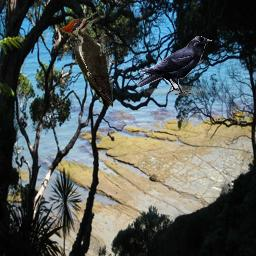Crow: (136, 36, 212, 96)
Woodpecker: (59, 11, 113, 111)
